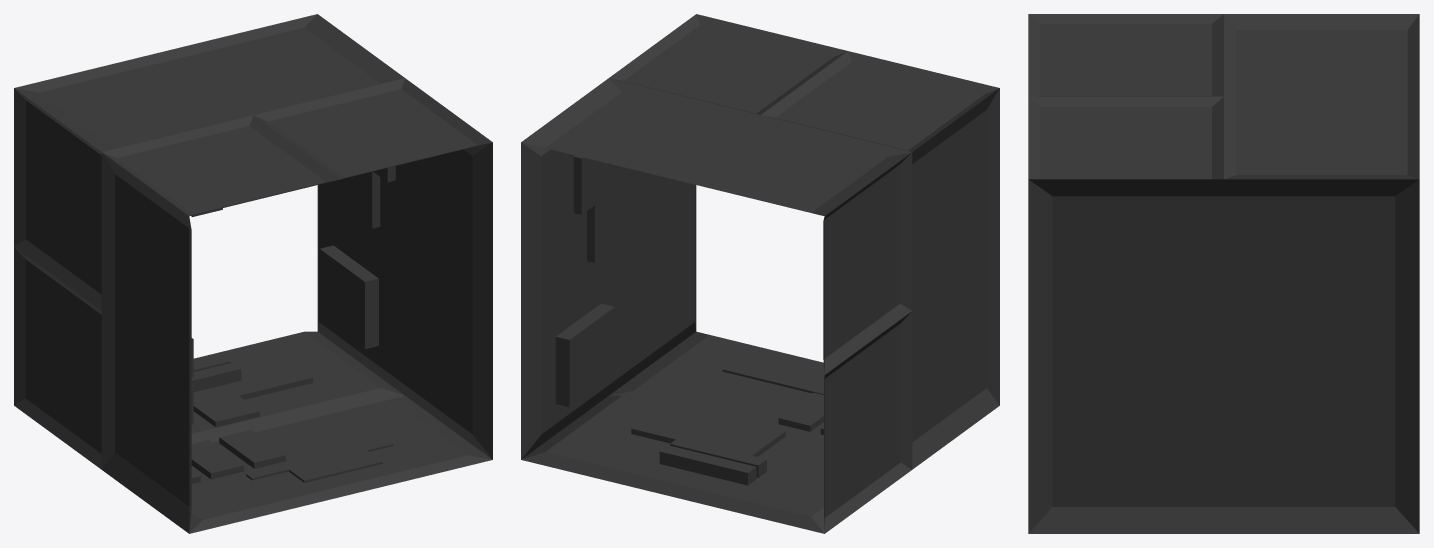
Rendered from tunnel_forward_01.obj.
3 views of the same model, side by side, from view 1: azimuth 30°, elevation 25°; view 2: azimuth 150°, elevation 25°; view 3: azimuth 270°, elevation 25° (orthographic). The views are drawn at different scales.
Parts seen in each view (by area): view 1: tunnel; view 2: tunnel; view 3: tunnel.
Boxes of the visible parts, left/top/right/bottom form: tunnel: left=14, top=14, right=492, bottom=533; tunnel: left=521, top=14, right=999, bottom=533; tunnel: left=1028, top=14, right=1419, bottom=533.
Bounding box in the file's own units: 15.56 × 15.56 × 15.56.
Materials: 1 (1 with a texture image).
